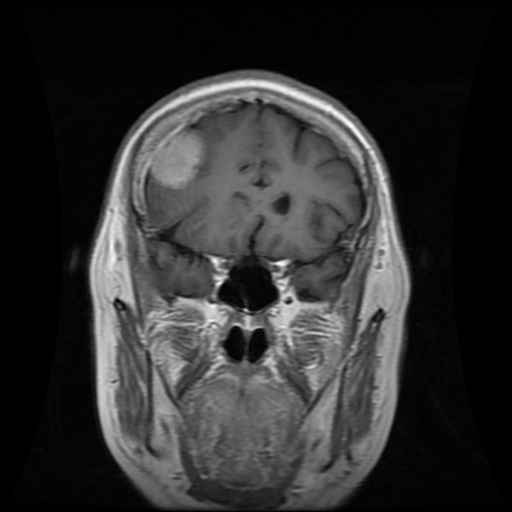meningioma: (154, 130, 203, 188)
